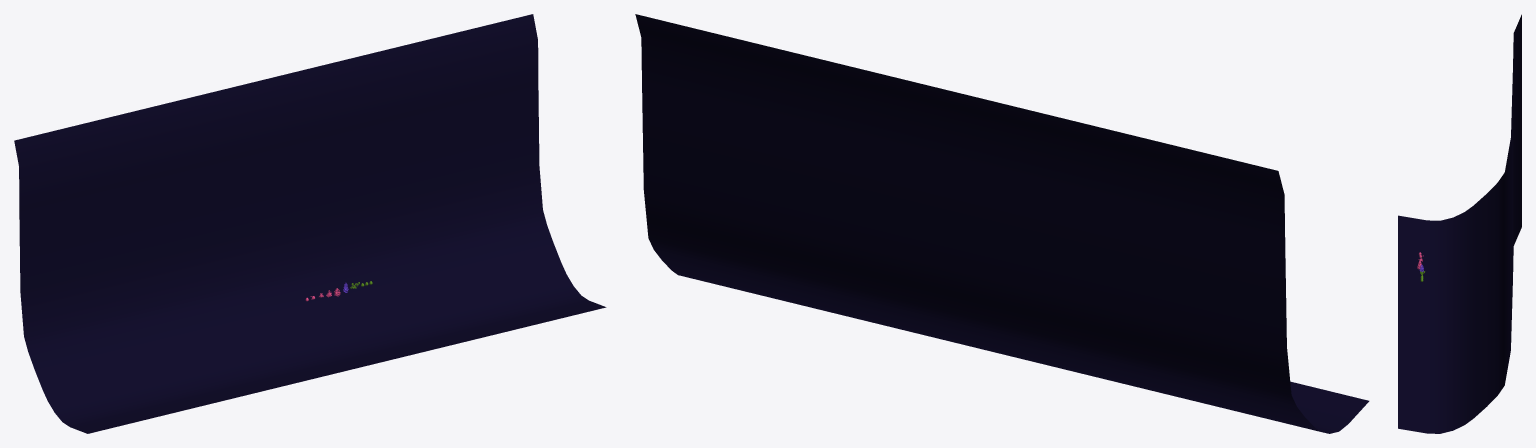
File: cracked_egg.glb
The picture shows the model from 3 angles, left to right: view 1: azimuth 30°, elevation 25°; view 2: azimuth 150°, elevation 25°; view 3: azimuth 270°, elevation 25°; orthographic projection. The views are drawn at different scales.
Visible parts, largest first — view 1: Фон; view 2: Фон; view 3: Фон.
Part boxes in pixels (left/top/right/bottom): Фон: left=14, top=14, right=606, bottom=433; Фон: left=635, top=14, right=1369, bottom=433; Фон: left=1398, top=14, right=1521, bottom=433.
Size of the model in its own units: 360 by 163 by 88.39.
